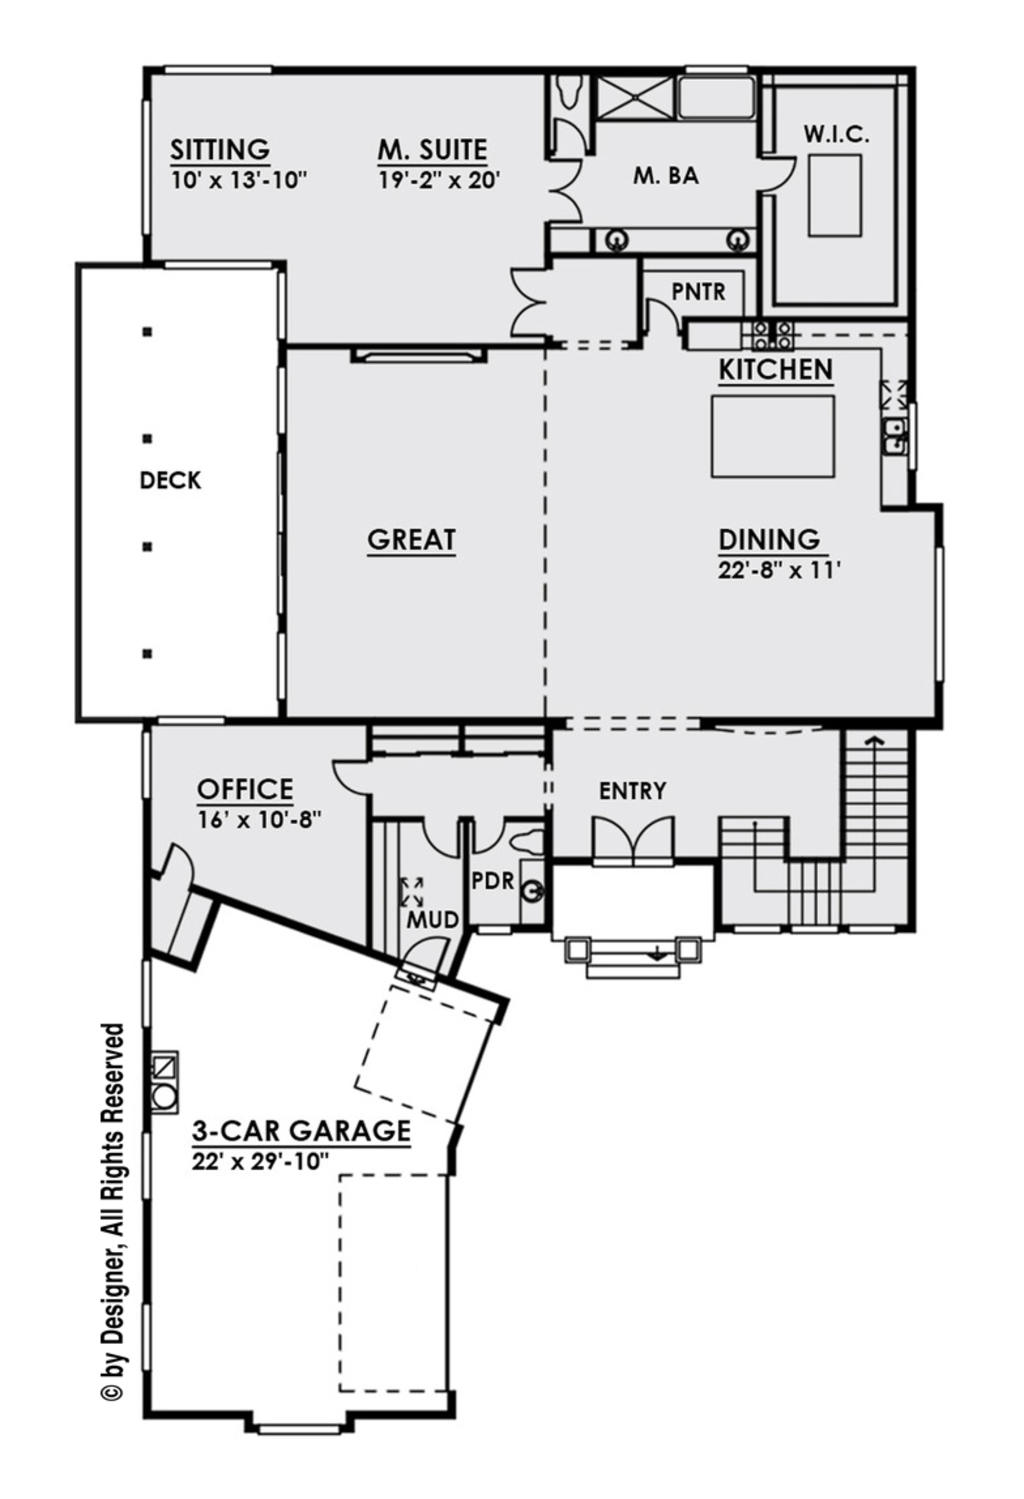door: (582, 806, 680, 859), (506, 259, 555, 341), (539, 154, 590, 226), (396, 927, 447, 983), (752, 146, 801, 195), (325, 754, 371, 805), (641, 292, 675, 343), (419, 816, 458, 860), (461, 814, 503, 854), (547, 114, 587, 156), (159, 839, 192, 884)
large_sink: (503, 826, 546, 859), (557, 72, 585, 116)
small_sink: (513, 853, 546, 921)
stairs: (715, 722, 914, 929), (358, 710, 544, 767)
windows: (341, 339, 490, 370), (926, 541, 950, 687), (134, 92, 155, 251), (247, 1414, 347, 1440), (157, 57, 277, 77)
